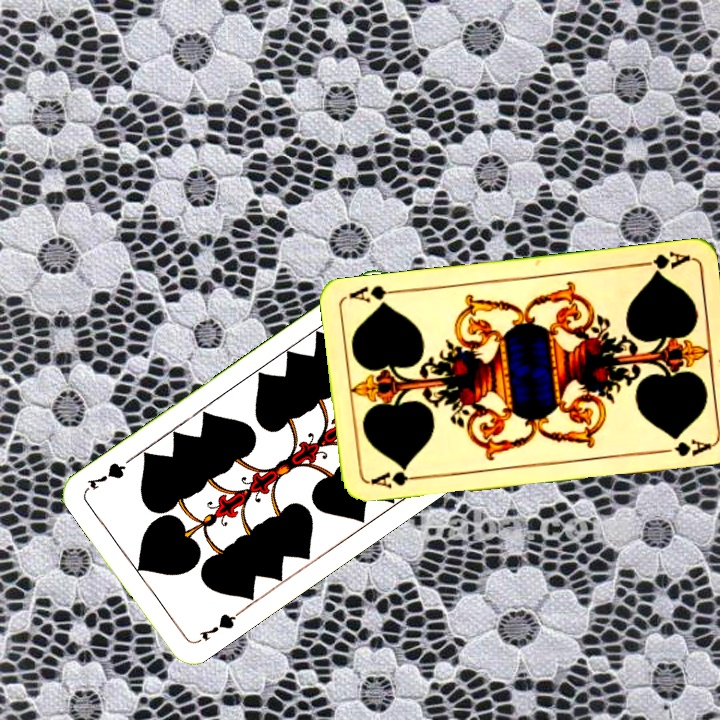G7: (190, 608, 243, 646)
GA: (632, 247, 691, 277), (365, 465, 424, 491)
